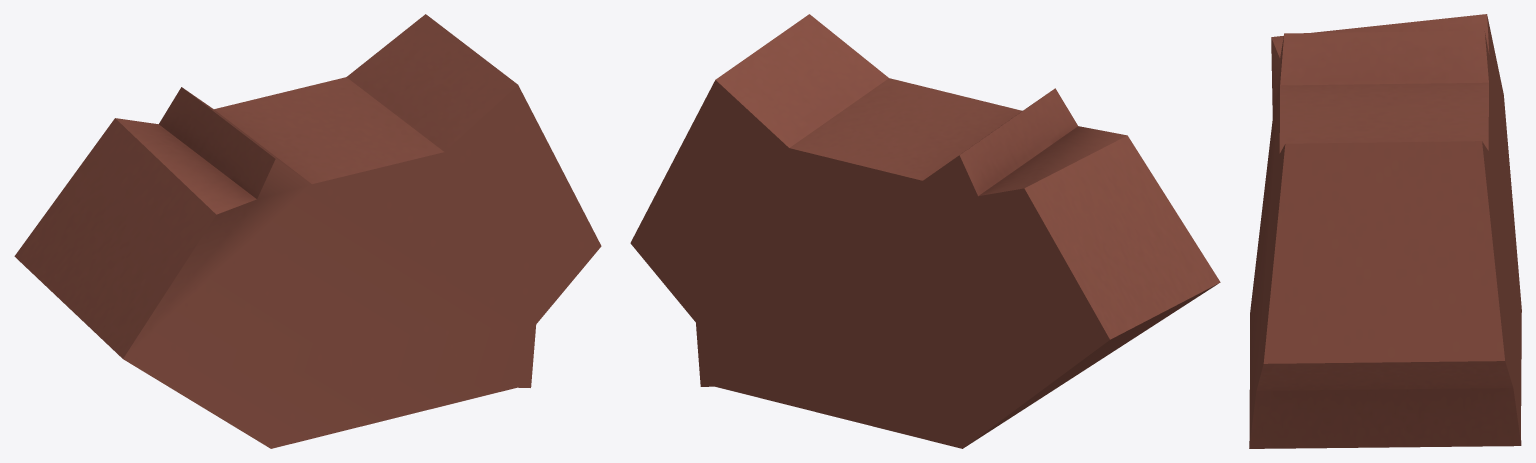
Rendered from Hair 2.FBX.
3 renders of one model, left to right at view 1: azimuth 30°, elevation 25°; view 2: azimuth 150°, elevation 25°; view 3: azimuth 270°, elevation 25°, orthographic. The views are drawn at different scales.
Parts seen in each view (by area): view 1: Hair 2; view 2: Hair 2; view 3: Hair 2.
Part boxes in pixels (x1=…): Hair 2: x1=14, y1=14, x2=601, y2=448; Hair 2: x1=630, y1=14, x2=1220, y2=448; Hair 2: x1=1249, y1=14, x2=1521, y2=448.
Size of the model in its own units: 348 by 163 by 205.
1 material, 1 textured.
